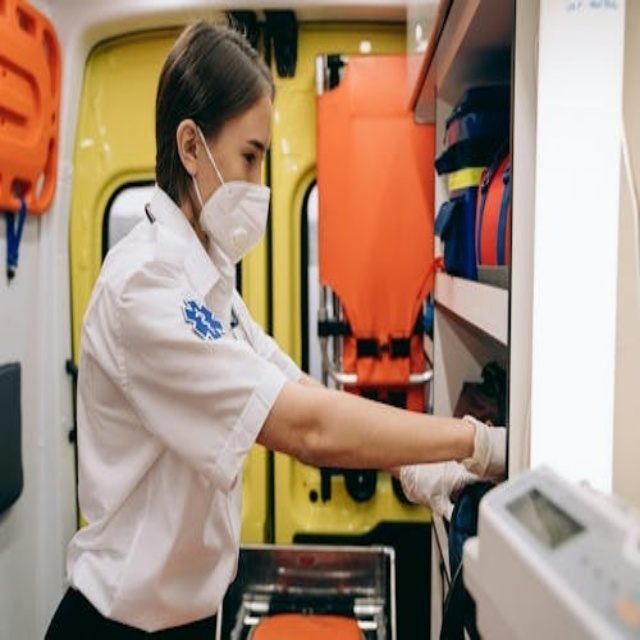Guantes: (398, 460, 473, 523), (460, 415, 507, 481)
Mascara: (191, 126, 269, 268)
Sin_gafas: (218, 135, 268, 167)
